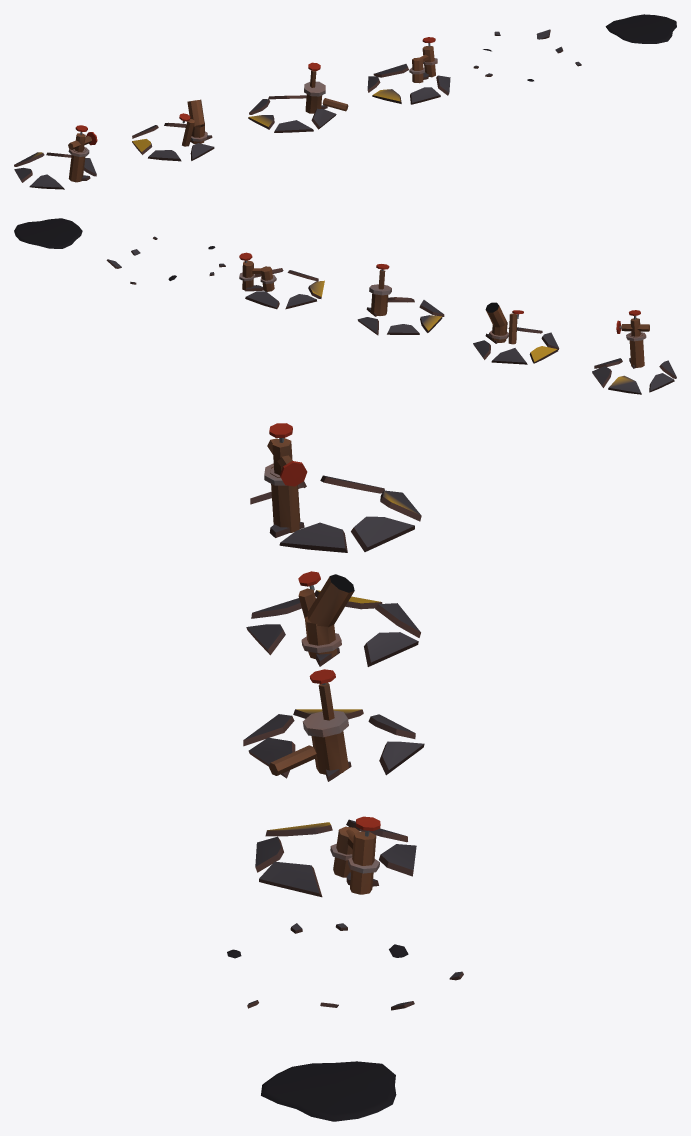
Rendered from dep_oil.glb.
The picture shows the model from 3 angles, top to bottom: view 1: azimuth 30°, elevation 25°; view 2: azimuth 150°, elevation 25°; view 3: azimuth 270°, elevation 25°; orthographic projection. The views are drawn at different scales.
Parts seen in each view (by area): view 1: v2, v3, v0, v1, pool; view 2: v0, v1, v3, v2, pool; view 3: v0, v2, v1, v3, pool.
Boxes of the visible parts, <box> form: v2: <box>248,62,348,132</box>; v3: <box>367,37,450,104</box>; v0: <box>14,125,97,189</box>; v1: <box>132,99,214,161</box>; pool: <box>605,14,676,43</box>; v0: <box>592,310,676,394</box>; v1: <box>473,302,559,364</box>; v3: <box>239,252,324,309</box>; v2: <box>357,264,444,335</box>; pool: <box>14,218,82,248</box>; v0: <box>250,423,421,552</box>; v2: <box>243,669,424,781</box>; v1: <box>246,571,420,666</box>; v3: <box>255,816,416,897</box>; pool: <box>261,1061,396,1121</box>.
Size of the model in its own units: 12.87 by 0.9785 by 2.02.
